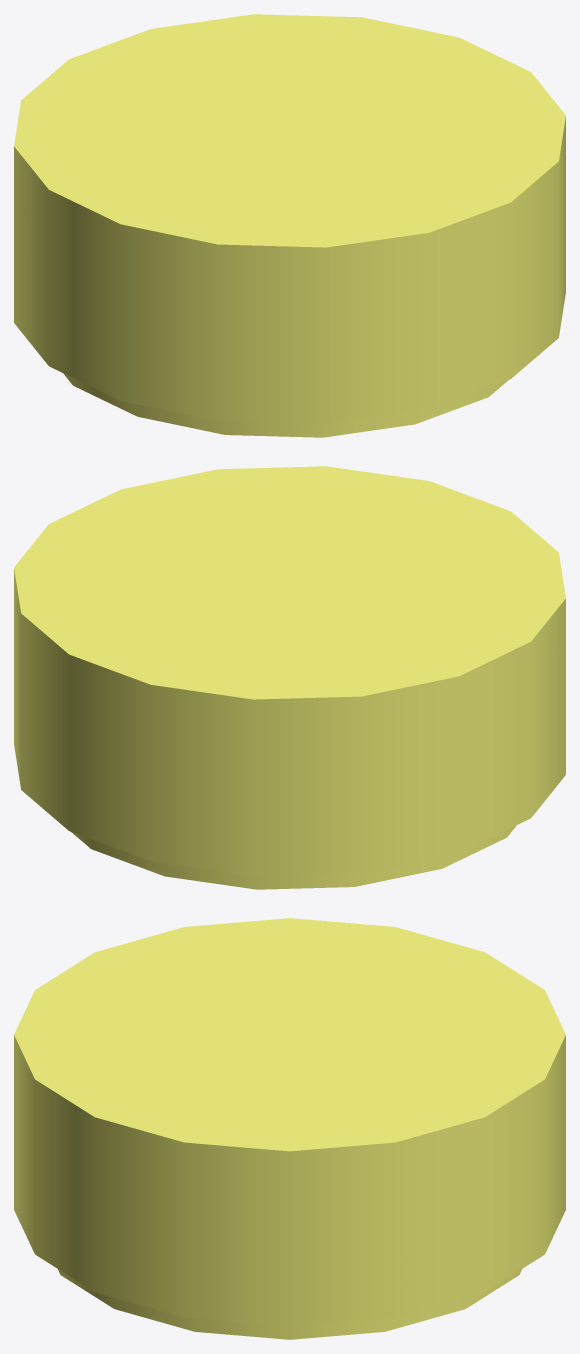
3 renders of one model, top to bottom at view 1: azimuth 30°, elevation 25°; view 2: azimuth 150°, elevation 25°; view 3: azimuth 270°, elevation 25°, orthographic.
Parts seen in each view (by area): view 1: 98138.dat; view 2: 98138.dat; view 3: 98138.dat.
Part boxes in pixels (left/top/right/bottom): 98138.dat: left=14, top=14, right=565, bottom=437; 98138.dat: left=14, top=466, right=565, bottom=889; 98138.dat: left=14, top=918, right=565, bottom=1339.
Bounding box in the file's own units: 0.008 × 0.0032 × 0.008.
